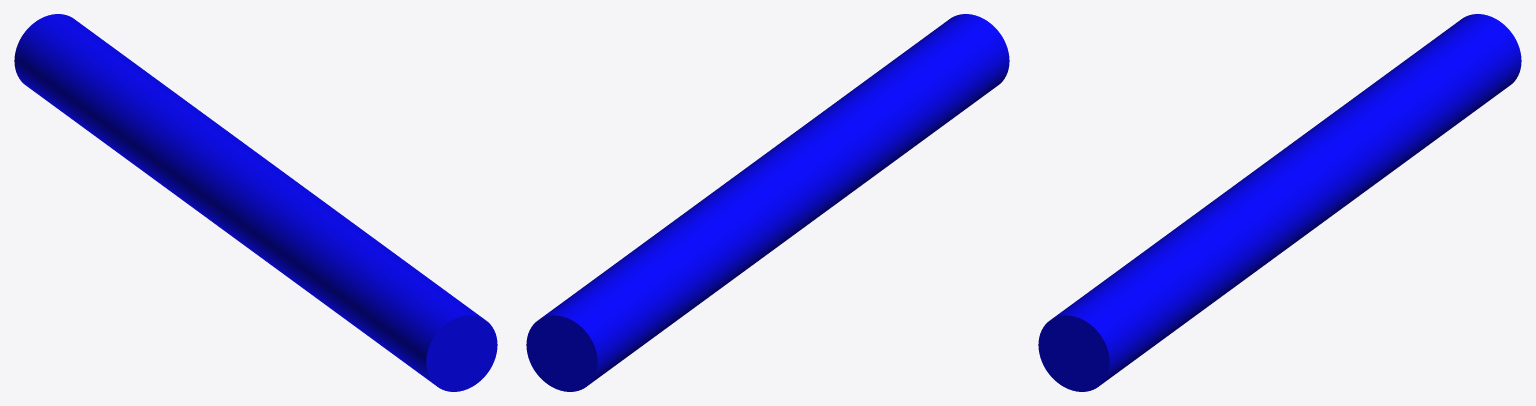
Rendered from z_axis.obj.
3 renders of one model, left to right at view 1: azimuth 30°, elevation 25°; view 2: azimuth 150°, elevation 25°; view 3: azimuth 330°, elevation 25°, orthographic.
Visible parts, largest first — view 1: mesh1, mesh0; view 2: mesh1, mesh2; view 3: mesh1, mesh0.
Boxes of the visible parts, bbox=[...] form: mesh1: bbox=[14, 14, 483, 384]; mesh0: bbox=[426, 315, 497, 391]; mesh1: bbox=[540, 14, 1009, 384]; mesh2: bbox=[526, 315, 597, 391]; mesh1: bbox=[1052, 14, 1521, 384]; mesh0: bbox=[1038, 315, 1109, 391].
Size of the model in its own units: 0.01 by 0.00999 by 0.1.
